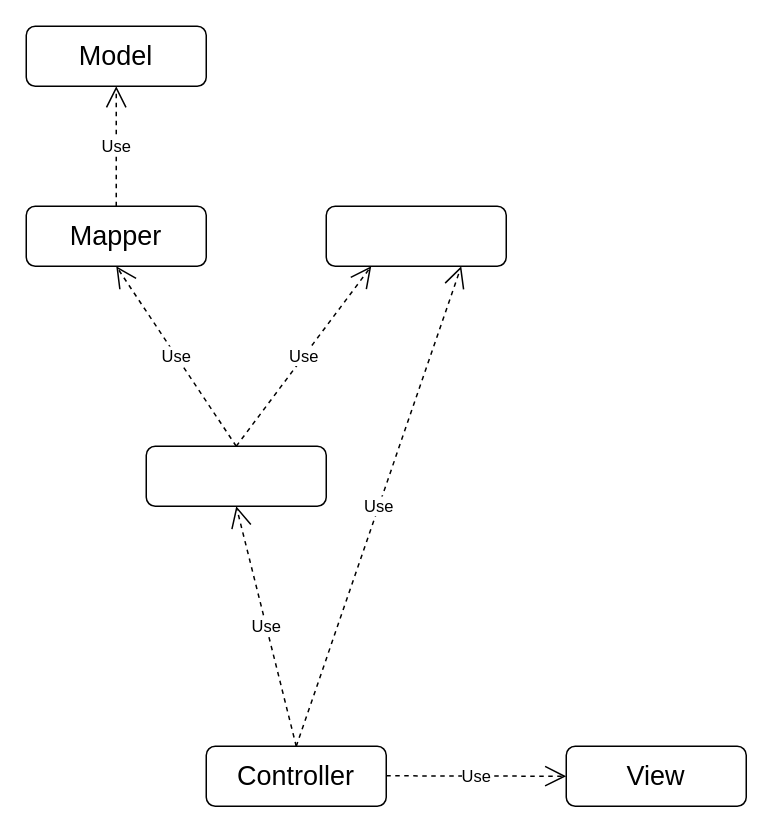
Some shapes in this 773 by 833 pixel diagram are drawn without their labels. Each missing label, with the centre of its shape:
"Form" belongs at (415,235).
"Service" belongs at (235,475).
